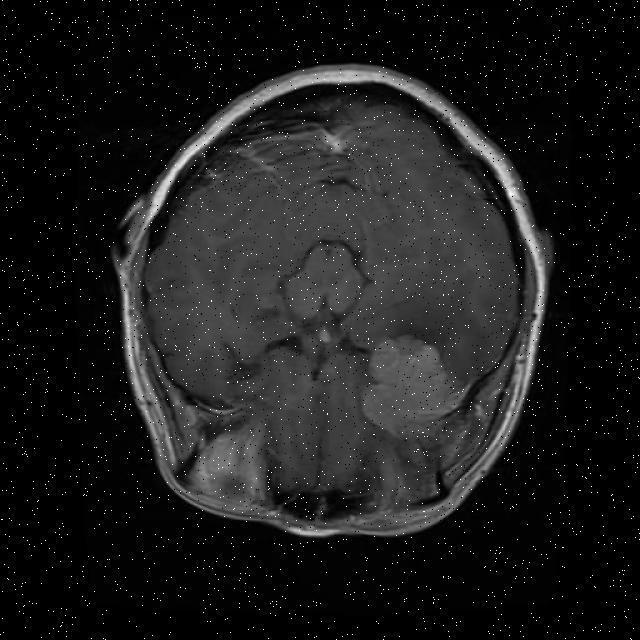Meningioma: (363, 336, 462, 429)
